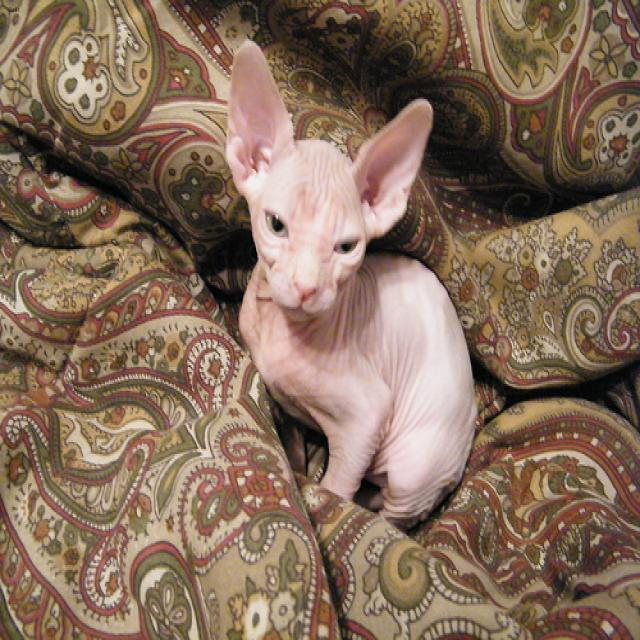cat: (223, 38, 431, 319)
